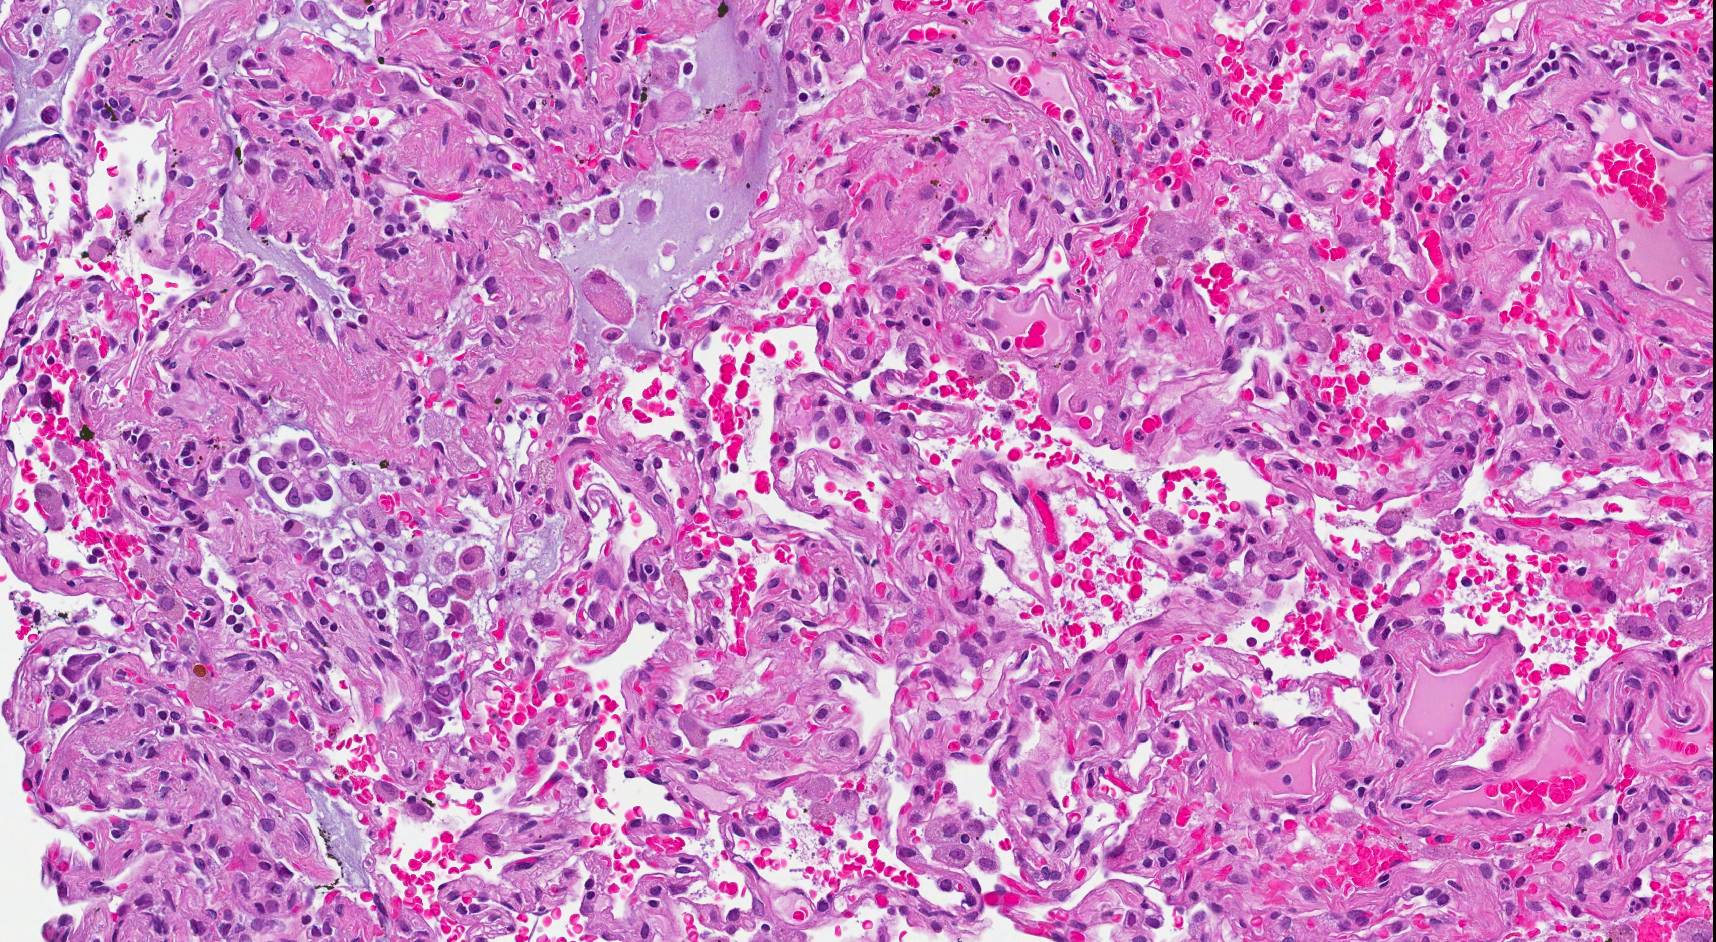stas: (254, 435, 335, 512)
